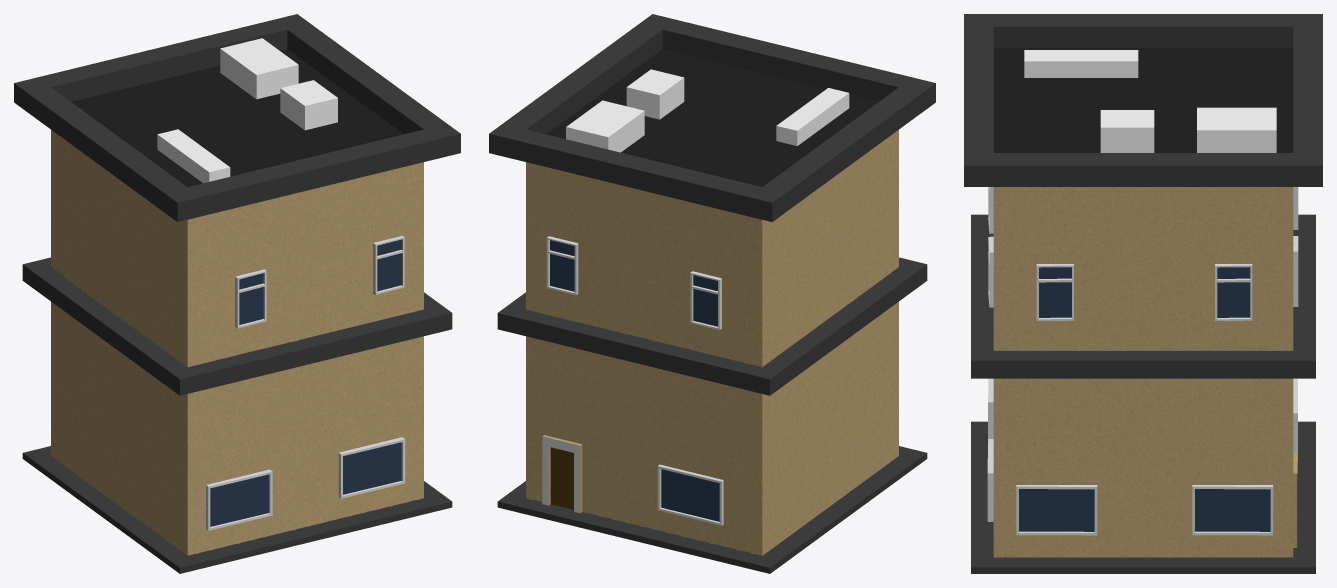
The model's file is LowPolyOfiice_JAM23.fbx.
The picture shows the model from 3 angles, left to right: view 1: azimuth 30°, elevation 25°; view 2: azimuth 150°, elevation 25°; view 3: azimuth 270°, elevation 25°; orthographic projection. The views are drawn at different scales.
Parts seen in each view (by area): view 1: Cube; view 2: Cube; view 3: Cube.
Boxes of the visible parts, box(x1,y1,x2,y2) form: Cube: box(14, 14, 460, 573); Cube: box(489, 14, 935, 573); Cube: box(964, 14, 1322, 573).
Bounding box in the file's own units: 13.4 × 17.16 × 13.4.
Materials: 7 (1 with a texture image).
